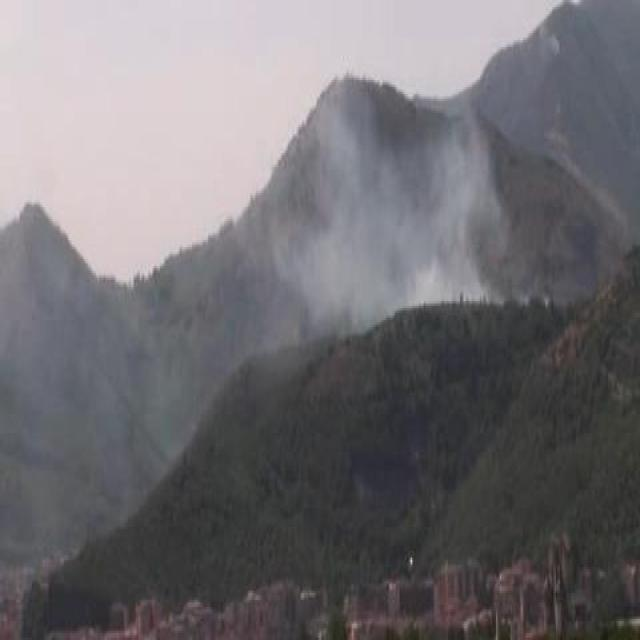Smoke: (282, 99, 502, 318)
